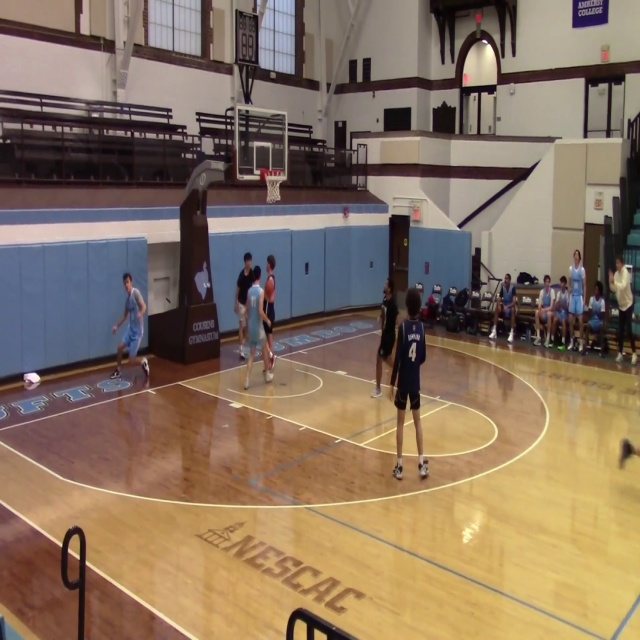Basketball: (23, 372, 40, 385)
